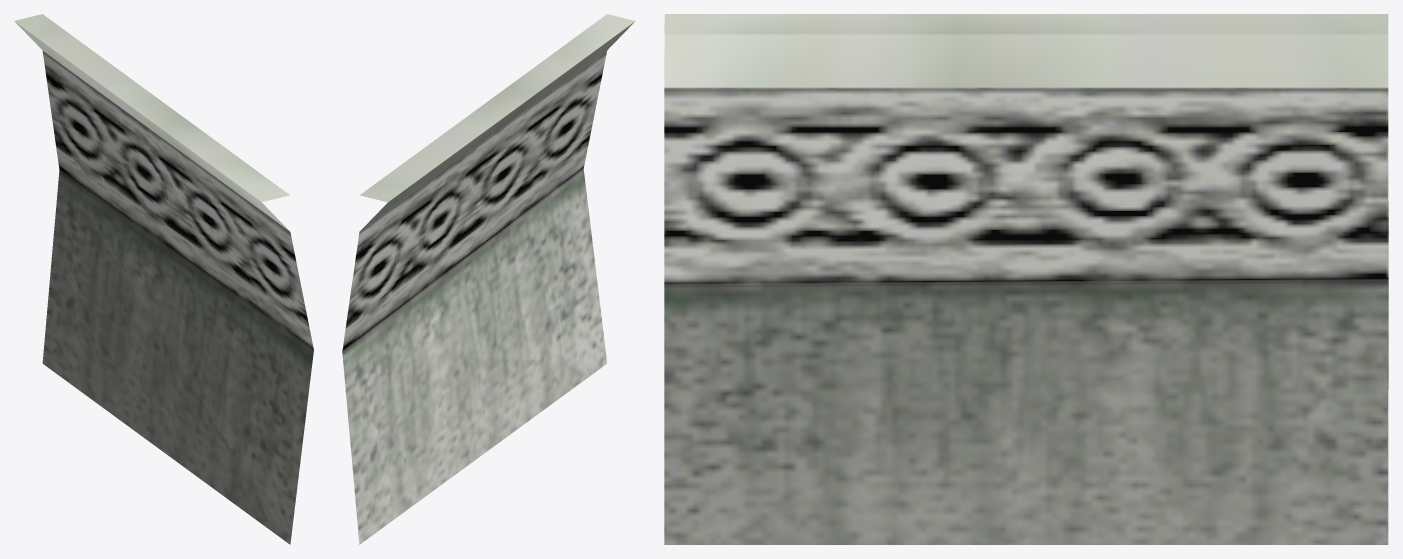
File: W_A3_xx [Verziert]_713.glb
3 views of the same model, side by side, from view 1: azimuth 30°, elevation 25°; view 2: azimuth 150°, elevation 25°; view 3: azimuth 270°, elevation 25° (orthographic). The views are drawn at different scales.
Visible parts, largest first — view 1: pPlaneShape1, polySurfaceShape1065; view 2: pPlaneShape1, polySurfaceShape1065; view 3: pPlaneShape1, polySurfaceShape1065.
Part boxes in pixels (box(x1,y1,x2,y2)): pPlaneShape1: box(42, 51, 313, 544); polySurfaceShape1065: box(14, 14, 289, 230); pPlaneShape1: box(342, 51, 607, 544); polySurfaceShape1065: box(360, 14, 635, 230); pPlaneShape1: box(664, 87, 1388, 544); polySurfaceShape1065: box(664, 14, 1388, 87).
Size of the model in its own units: 0.0607 by 0.3891 by 0.5003.
Materials: 2 (2 with a texture image).
